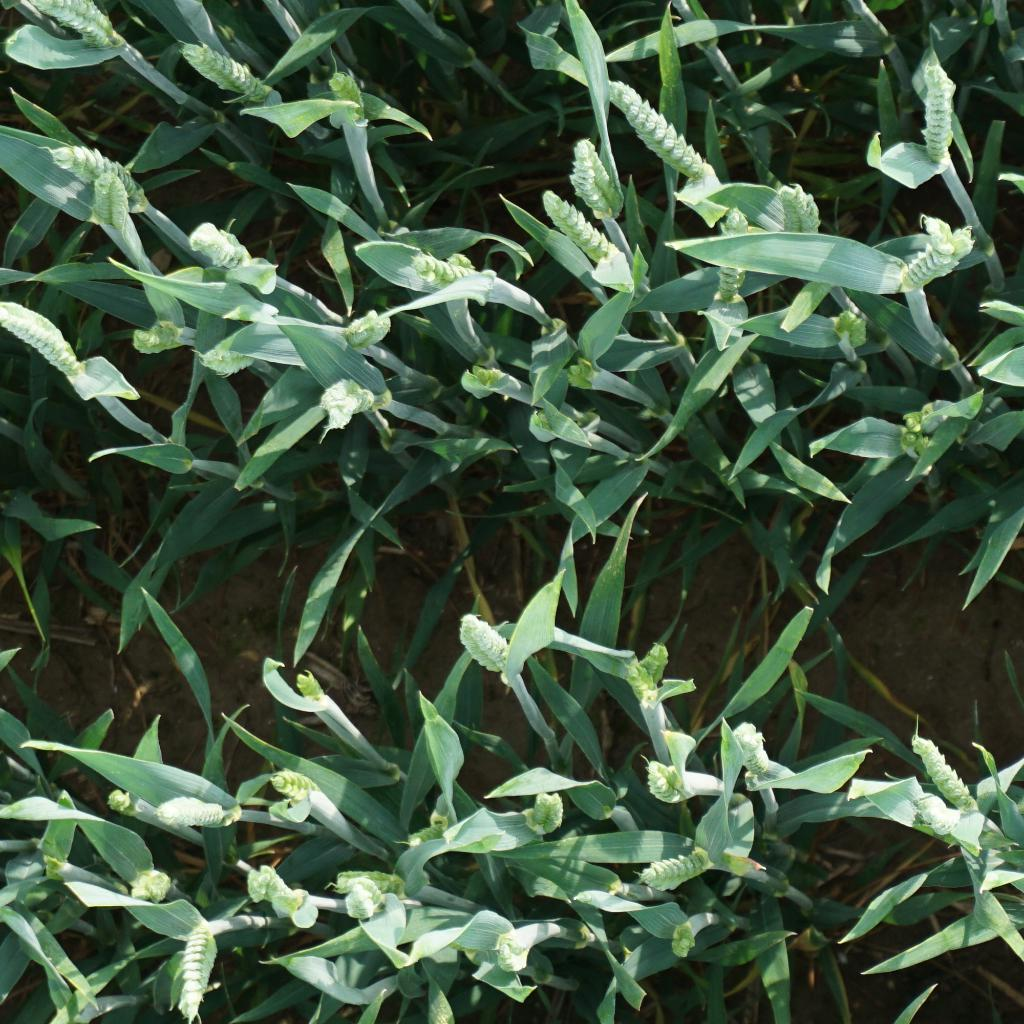0-0: (588, 76, 713, 181), (44, 144, 150, 215), (534, 185, 619, 269), (0, 300, 86, 380), (903, 205, 981, 290), (173, 35, 271, 101), (13, 0, 131, 53), (906, 730, 978, 816), (559, 135, 626, 227), (176, 924, 225, 1023), (444, 612, 516, 676), (636, 841, 709, 893), (317, 375, 380, 435), (921, 64, 958, 163), (188, 218, 253, 272), (196, 322, 257, 378), (717, 201, 749, 306), (401, 245, 474, 288), (770, 184, 824, 238), (155, 793, 236, 829), (720, 719, 771, 776), (244, 861, 300, 911), (90, 166, 131, 233), (636, 758, 694, 805), (130, 312, 182, 362), (909, 791, 963, 839), (332, 869, 412, 899), (269, 765, 323, 809), (342, 310, 396, 350), (327, 876, 394, 908), (326, 66, 364, 121), (636, 637, 673, 692), (528, 786, 567, 834), (620, 656, 656, 706), (492, 928, 530, 974), (126, 867, 175, 902), (406, 816, 450, 853), (339, 885, 378, 921), (833, 307, 867, 348), (290, 669, 327, 705), (559, 357, 598, 391), (464, 358, 502, 391), (668, 922, 700, 960), (889, 432, 931, 454), (897, 409, 930, 435), (105, 786, 132, 814), (443, 248, 474, 270)
